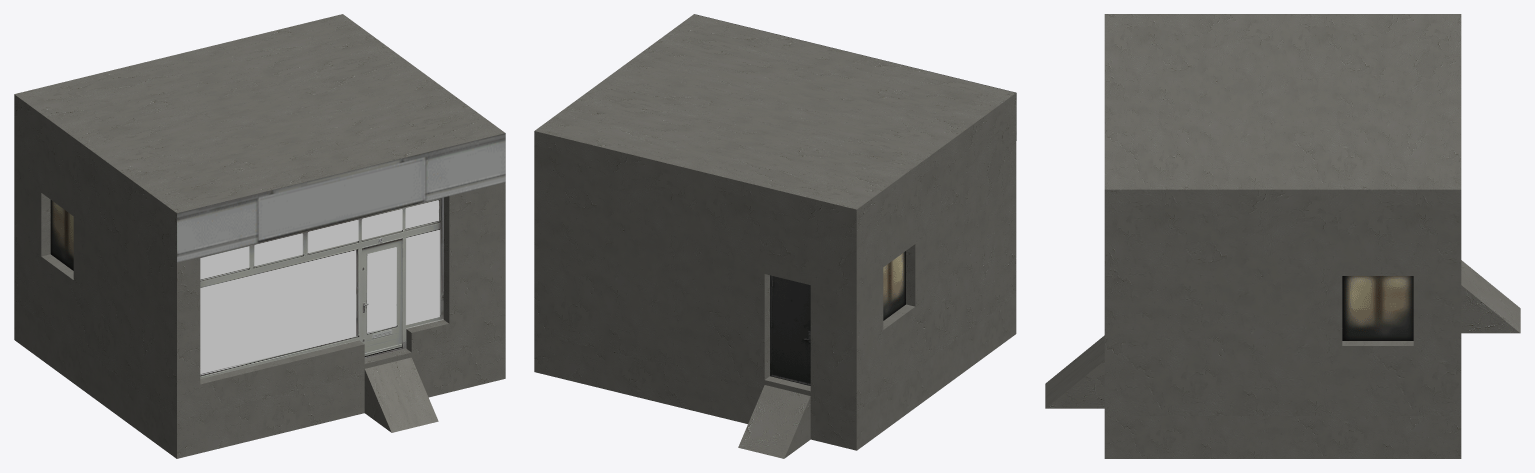
The model's file is small_house_1.fbx.
The picture shows the model from 3 angles, left to right: view 1: azimuth 30°, elevation 25°; view 2: azimuth 150°, elevation 25°; view 3: azimuth 270°, elevation 25°; orthographic projection. The views are drawn at different scales.
Parts seen in each view (by area): view 1: small_house_1; view 2: small_house_1; view 3: small_house_1.
Part boxes in pixels (x1=…): small_house_1: x1=14, y1=14, x2=505, y2=458; small_house_1: x1=534, y1=14, x2=1016, y2=458; small_house_1: x1=1045, y1=14, x2=1520, y2=458.
Size of the model in its own units: 700 by 500 by 800.
